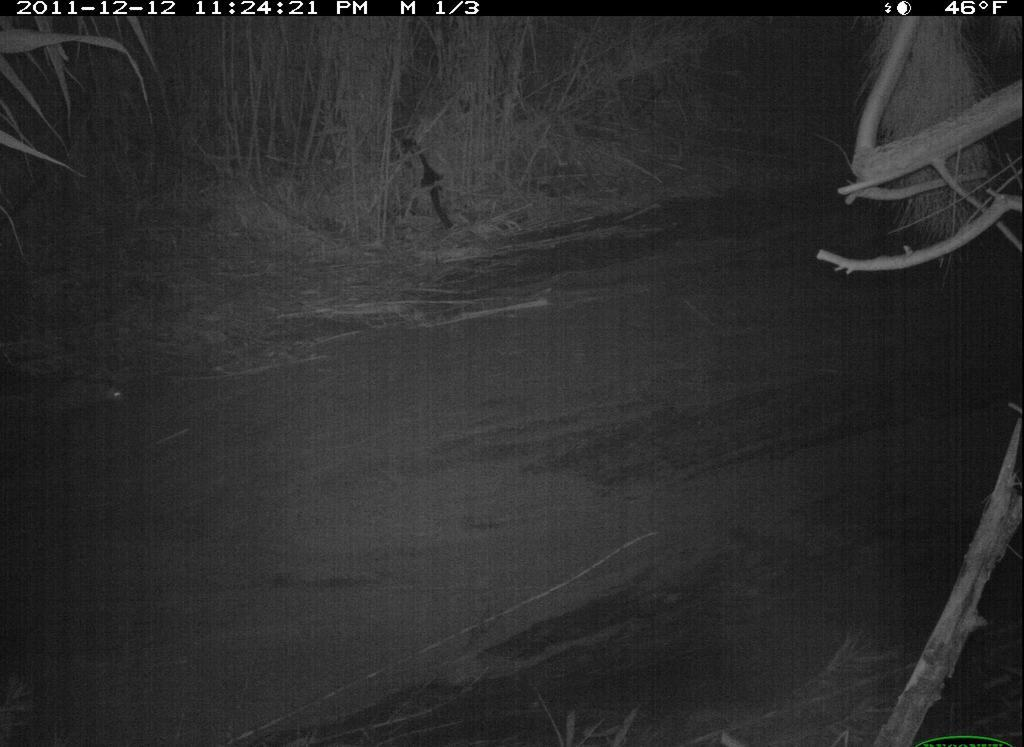opossum: (12, 368, 159, 429)
